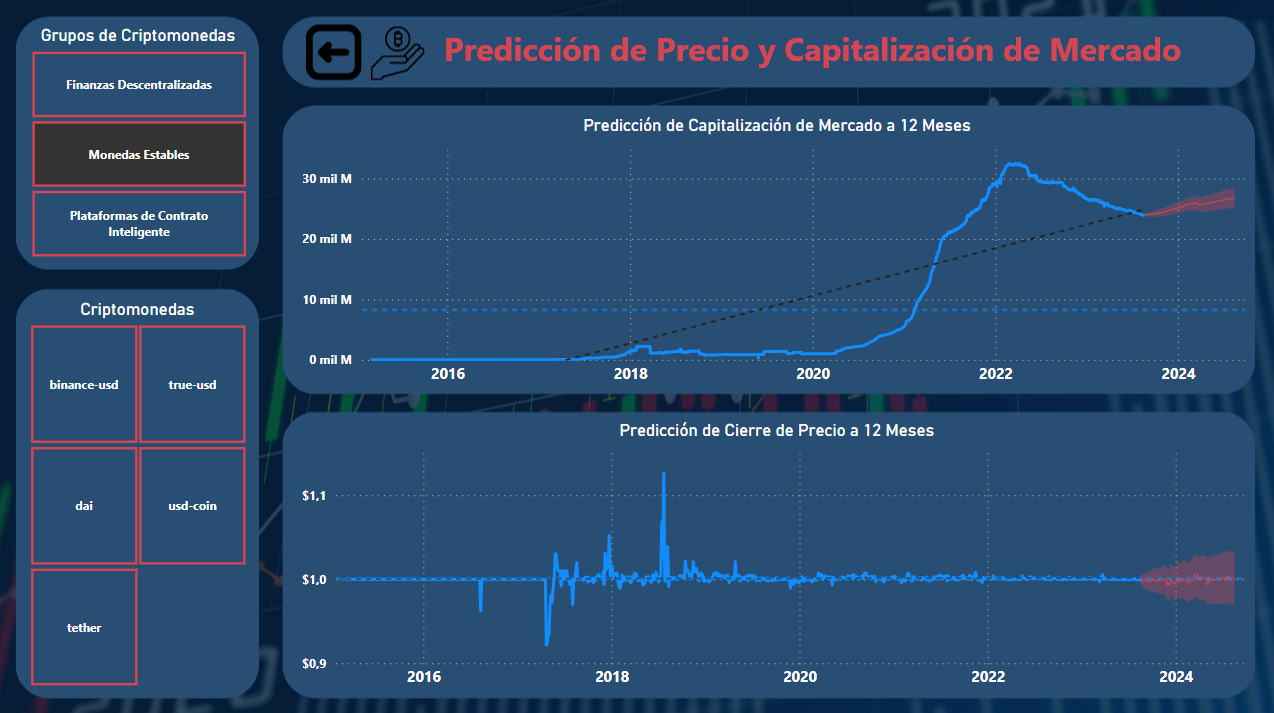

What the dashboard file says about the page in this screenshot:
{"tool":"powerbi","page":{"name":"Predicción 12 Meses","canvas":[1280,720],"ordinal":4},"visuals":[{"type":"lineChart","title":"Predicción de Capitalización de Mercado a 12 Meses","fields":{"Category":["combinado_completo.date"],"Y":["Avg(combinado_completo.market_caps)"]},"box":[300.6,115.6,959.4,278.8],"z":0},{"type":"lineChart","title":"Predicción de Cierre de Precio a 12 Meses","fields":{"Category":["combinado_completo.date"],"Y":["Avg(combinado_completo.close)"]},"box":[300.9,421.8,959.1,277.3],"z":1000},{"type":"textbox","box":[442.7,22.7,797.3,80.9],"z":2000},{"type":"slicer","title":"Grupos de Criptomonedas","fields":{"Values":["combinado_completo.Grupos de Criptomonedas"]},"box":[10,26.4,263.6,238.2],"z":3000},{"type":"slicer","title":"Criptomonedas","fields":{"Values":["combinado_completo.id"]},"box":[8.1,299.4,265,393.8],"z":4000},{"type":"actionButton","box":[308.3,22.9,58.6,48.4],"z":5000}]}

Visuals, with their boxes in screenshot pixels (x1, y1, x2, y2), scaled from the page's 1280x720 canvas onto the 1274x713 screenshot:
"Predicción de Capitalización de Mercado a 12 Meses" lineChart: (299, 114, 1254, 391)
"Predicción de Cierre de Precio a 12 Meses" lineChart: (299, 418, 1254, 692)
textbox: (441, 22, 1234, 103)
"Grupos de Criptomonedas" slicer: (10, 26, 272, 262)
"Criptomonedas" slicer: (8, 296, 272, 686)
actionButton: (307, 23, 365, 71)
